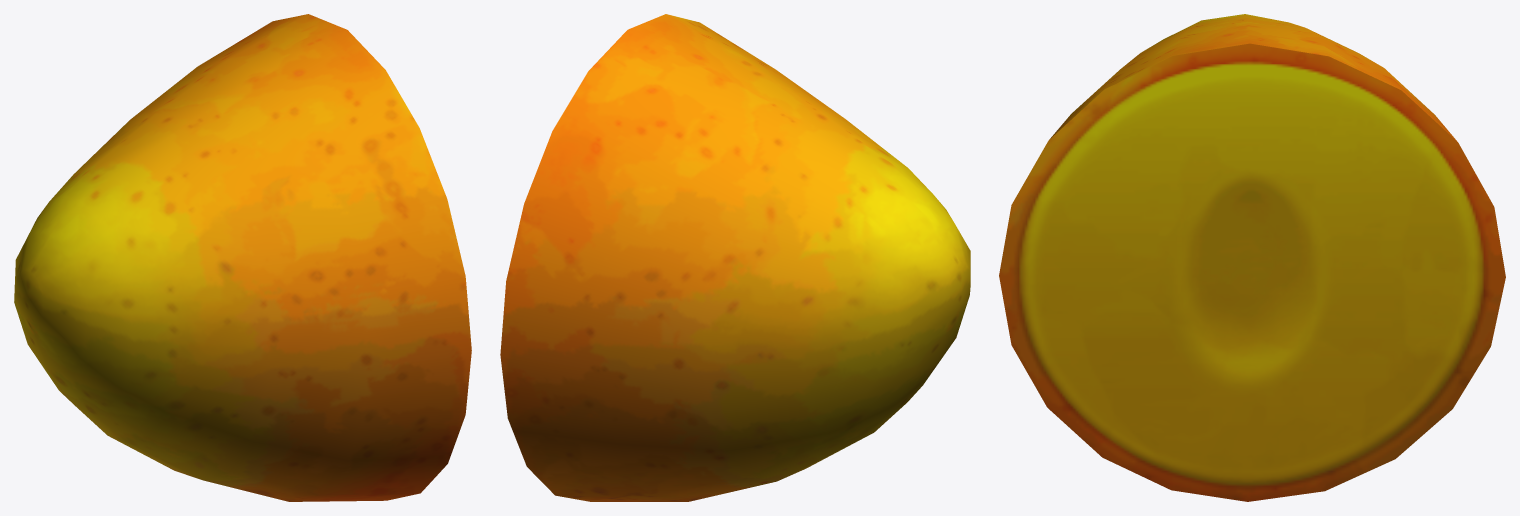
Rendered from SM_MangoCutC.fbx.
The picture shows the model from 3 angles, left to right: view 1: azimuth 30°, elevation 25°; view 2: azimuth 150°, elevation 25°; view 3: azimuth 270°, elevation 25°; orthographic projection.
Parts seen in each view (by area): view 1: SM_MangoCutC; view 2: SM_MangoCutC; view 3: SM_MangoCutC.
Part boxes in pixels (x1,y1,x2,y2): SM_MangoCutC: (14, 14, 471, 501); SM_MangoCutC: (500, 14, 970, 501); SM_MangoCutC: (999, 14, 1505, 501).
Size of the model in its own units: 11.63 by 15.4 by 15.44.
